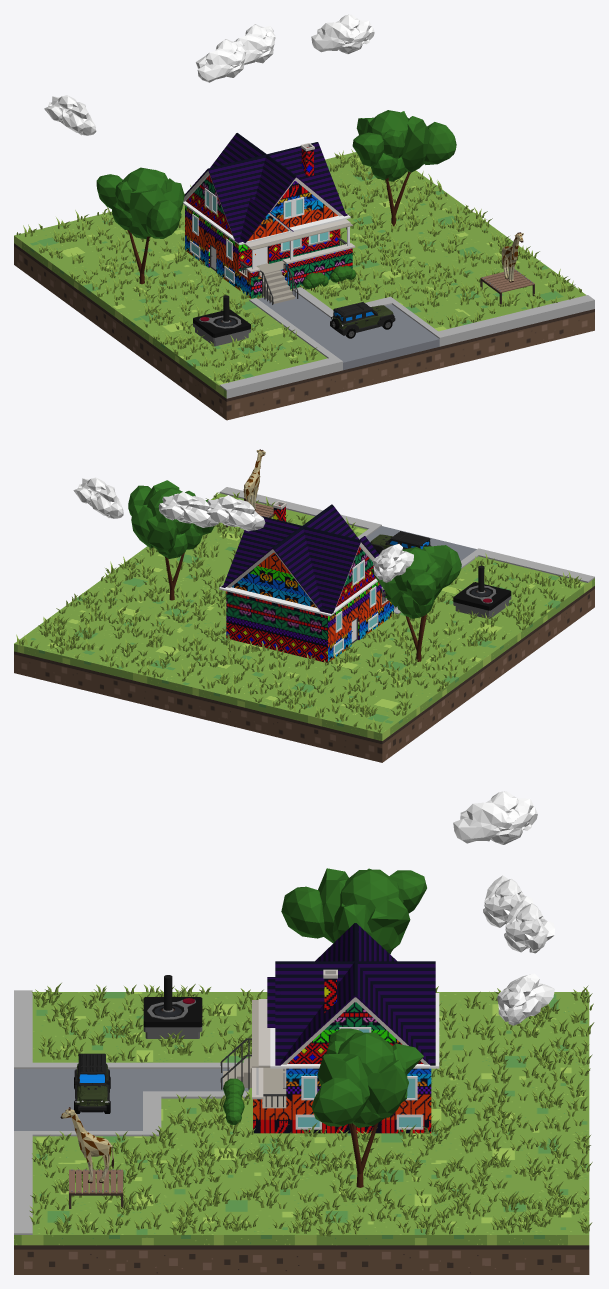
The picture shows the model from 3 angles, top to bottom: view 1: azimuth 30°, elevation 25°; view 2: azimuth 150°, elevation 25°; view 3: azimuth 270°, elevation 25°; orthographic projection. The views are drawn at different scales.
Parts seen in each view (by area): view 1: Cube.006, Cube.966, Circle.012_Grass_0.192, Cube.007, tree, tree.001, OBJRANDOM_JOYSTICK, VEHICLES_JEEP, Cube.009, ANIMAL_JIRAFA; view 2: Cube.006, Cube.966, Circle.012_Grass_0.192, Cube.007, tree.001, tree, OBJRANDOM_JOYSTICK, VEHICLES_JEEP, ANIMAL_JIRAFA; view 3: Cube.006, Circle.012_Grass_0.192, Cube.966, tree, Cube.007, tree.001, OBJRANDOM_JOYSTICK, VEHICLES_JEEP, Cube.009, ANIMAL_JIRAFA.
Part boxes in pixels (left/top/right/bottom): Cube.006: left=14, top=152, right=594, bottom=420; Cube.966: left=183, top=133, right=355, bottom=304; Circle.012_Grass_0.192: left=16, top=149, right=581, bottom=382; Cube.007: left=44, top=14, right=374, bottom=135; tree: left=352, top=110, right=456, bottom=226; tree.001: left=96, top=167, right=184, bottom=284; OBJRANDOM_JOYSTICK: left=193, top=295, right=250, bottom=346; VEHICLES_JEEP: left=330, top=301, right=395, bottom=338; Cube.009: left=480, top=269, right=534, bottom=303; ANIMAL_JIRAFA: left=501, top=232, right=523, bottom=282; Cube.006: left=14, top=487, right=594, bottom=762; Cube.966: left=219, top=501, right=393, bottom=662; Circle.012_Grass_0.192: left=16, top=492, right=581, bottom=732; Cube.007: left=73, top=477, right=413, bottom=582; tree.001: left=370, top=545, right=461, bottom=661; tree: left=128, top=480, right=214, bottom=600; OBJRANDOM_JOYSTICK: left=453, top=565, right=511, bottom=618; VEHICLES_JEEP: left=370, top=531, right=431, bottom=554; ANIMAL_JIRAFA: left=243, top=449, right=265, bottom=509; Cube.006: left=14, top=990, right=589, bottom=1274; Circle.012_Grass_0.192: left=29, top=983, right=594, bottom=1236; Cube.966: left=220, top=923, right=439, bottom=1133; tree: left=311, top=1028, right=423, bottom=1187; Cube.007: left=453, top=791, right=554, bottom=1025; tree.001: left=281, top=868, right=426, bottom=954; OBJRANDOM_JOYSTICK: left=143, top=975, right=202, bottom=1038; VEHICLES_JEEP: left=74, top=1053, right=110, bottom=1113; Cube.009: left=69, top=1169, right=123, bottom=1208; ANIMAL_JIRAFA: left=60, top=1107, right=113, bottom=1183.
Size of the model in its own units: 4071 by 2153 by 4040.
Materials: 47 (7 with a texture image).
